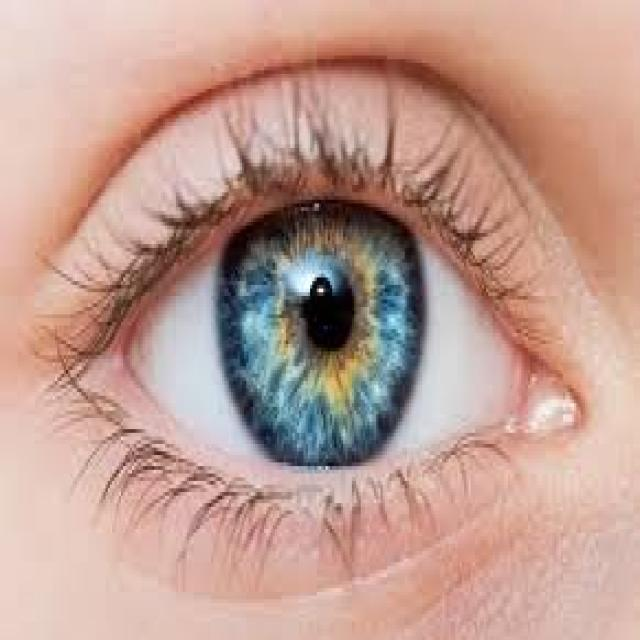Eyes-iris: (208, 179, 429, 480)
